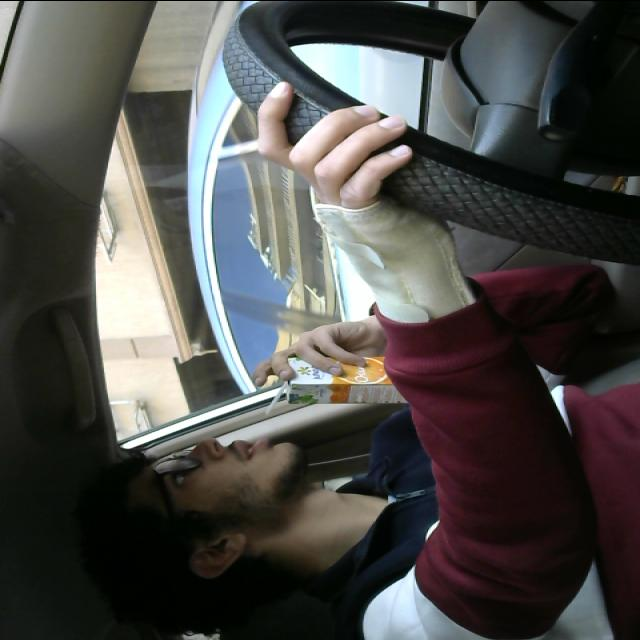drinking: (260, 348, 420, 421)
